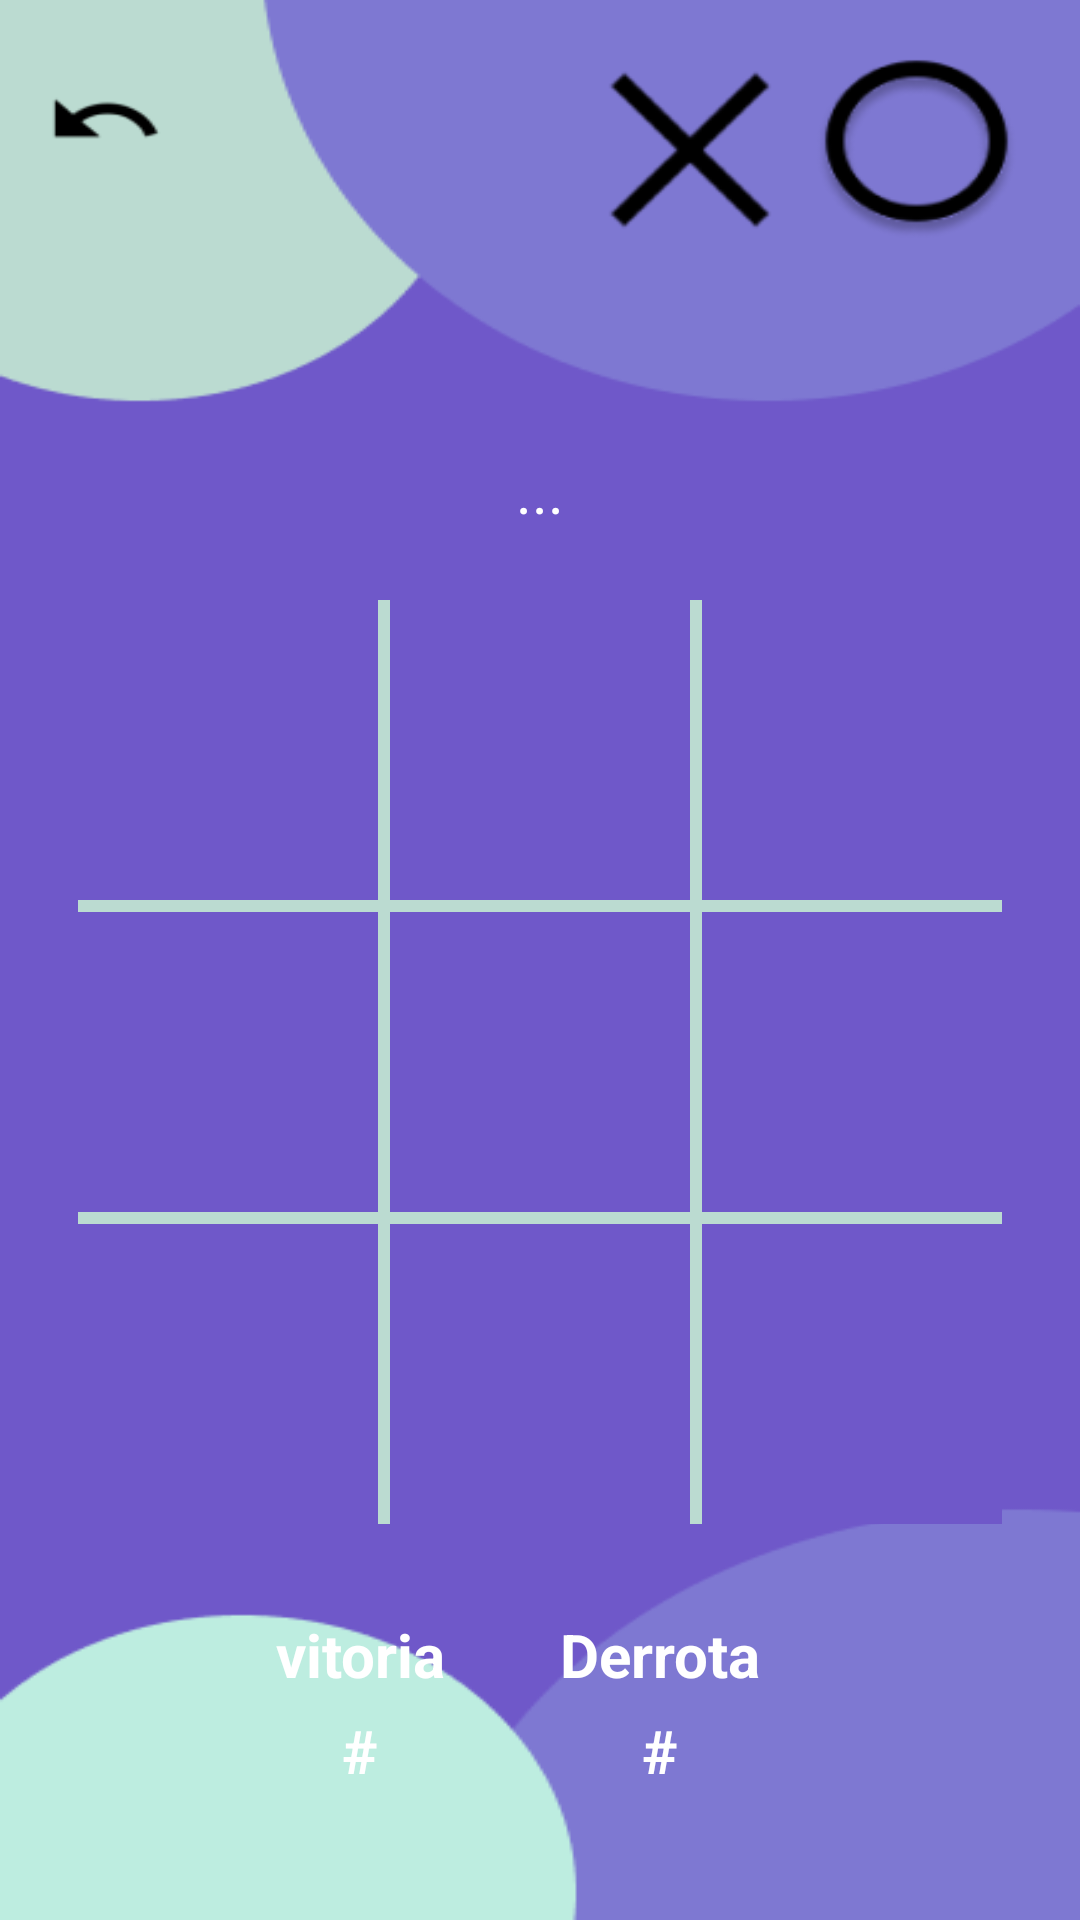

Screen size 1080w x 1920h. Icon name, then its center in pixels as point (x, y):
backmenu: point (106, 118)
